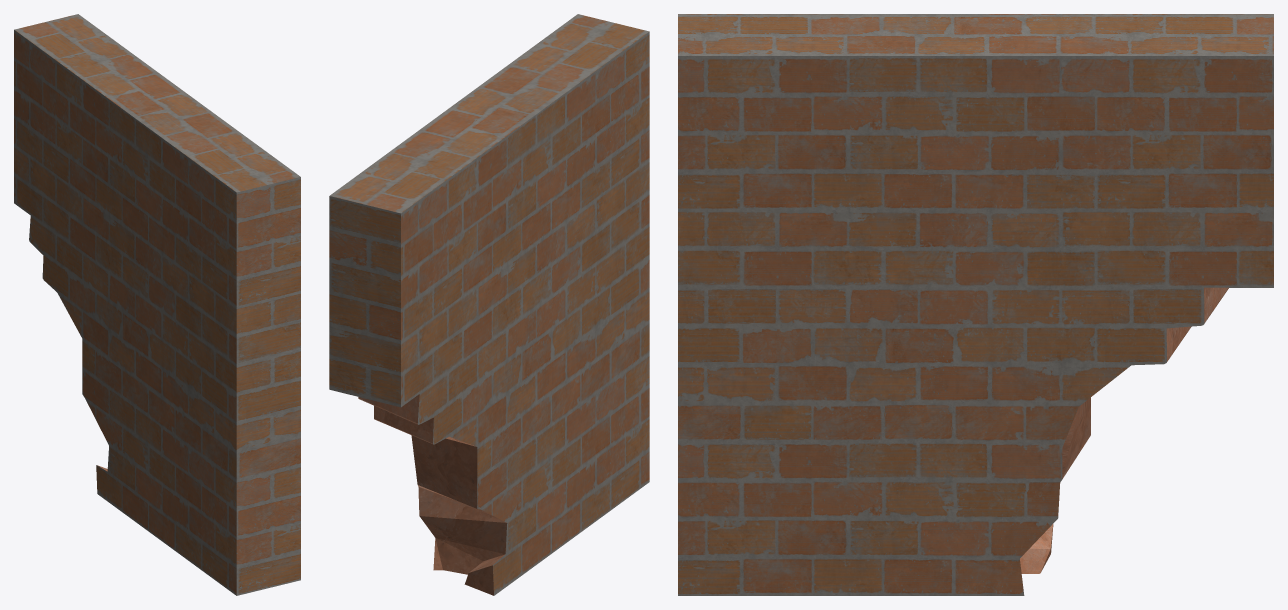
Rendered from wall_broken.fbx.
3 renders of one model, left to right at view 1: azimuth 30°, elevation 25°; view 2: azimuth 150°, elevation 25°; view 3: azimuth 270°, elevation 25°, orthographic. The views are drawn at different scales.
Visible parts, largest first — view 1: sciana; view 2: sciana; view 3: sciana.
Boxes of the visible parts, x1=… form: sciana: x1=14, y1=14, x2=300, y2=595; sciana: x1=329, y1=14, x2=649, y2=595; sciana: x1=678, y1=14, x2=1273, y2=595.
Size of the model in its own units: 50.05 by 300 by 300.
